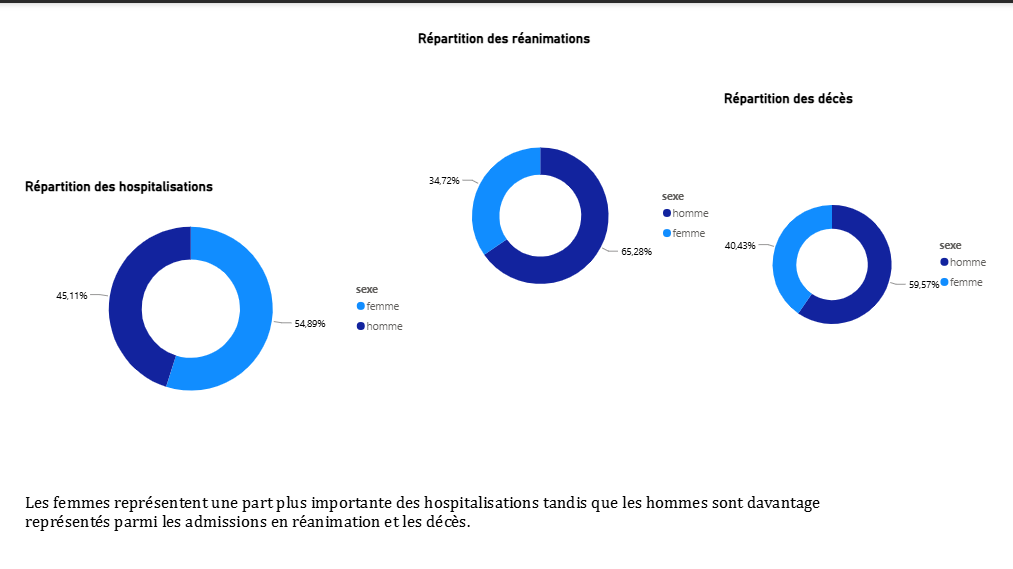

The page's visual inventory and layout, read from the dashboard file:
{"tool":"powerbi","page":{"name":"Impact du Covid-19 selon le sexe","canvas":[1280,720],"ordinal":2},"visuals":[{"type":"donutChart","title":"Répartition des hospitalisations","fields":{"Y":["Avg(table_sexe.hosp)"],"Category":["table_sexe.sexe"]},"box":[26.5,221.1,495.1,308],"z":0},{"type":"donutChart","title":"Répartition des réanimations","fields":{"Category":["table_sexe.sexe"],"Y":["Avg(table_sexe.rea)"]},"box":[521.6,34,385.5,447.9],"z":1000},{"type":"donutChart","title":"Répartition des décès","fields":{"Category":["table_sexe.sexe"],"Y":["Avg(table_sexe.dc)"]},"box":[907.1,109.6,349.6,419.5],"z":2000},{"type":"textbox","box":[26.5,610.4,1024.3,94.5],"z":3000}]}

Visuals, with their boxes in screenshot pixels (x1, y1, x2, y2), scaled from the page's 1280x720 canvas onto the 1013x569 screenshot:
"Répartition des hospitalisations" donutChart: box(21, 175, 413, 418)
"Répartition des réanimations" donutChart: box(413, 27, 718, 381)
"Répartition des décès" donutChart: box(718, 87, 995, 418)
textbox: box(21, 482, 832, 557)
